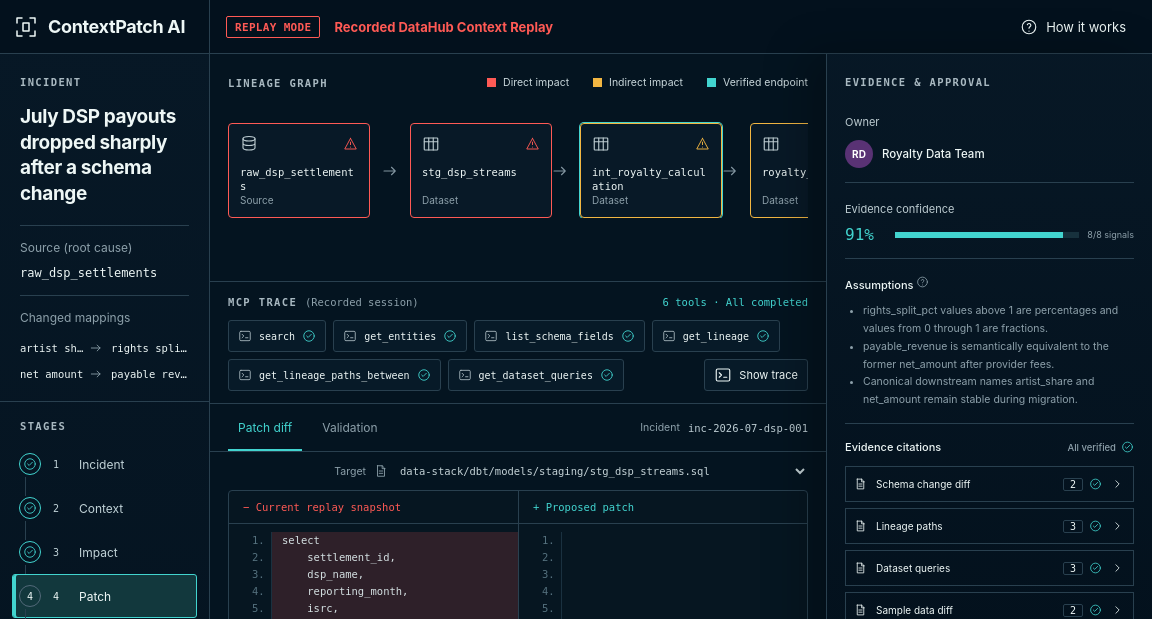
it: ContextPatch replay workbench › explains the workflow without leaving the page
Click the button "How it works" at (1073, 26), box [1014,16,1132,36]
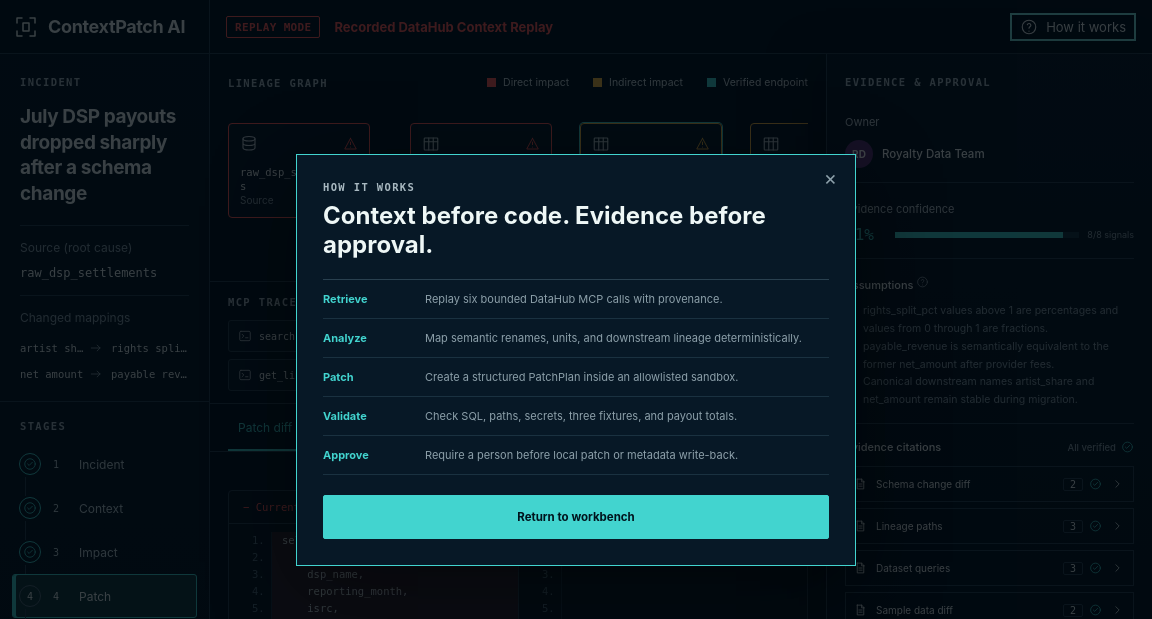
Result: the dialog shows "Context before code. Evidence before approval." at [323,201,766,259]
